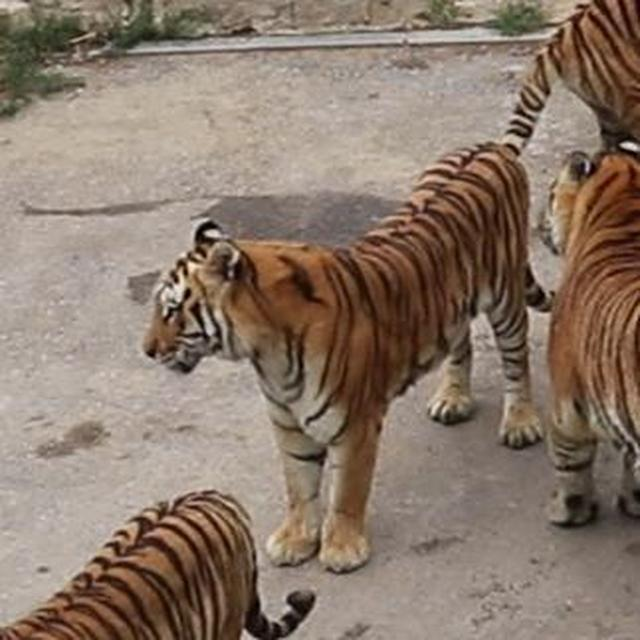tiger: (132, 136, 555, 581), (0, 458, 326, 640), (531, 141, 640, 543), (491, 0, 640, 150)
